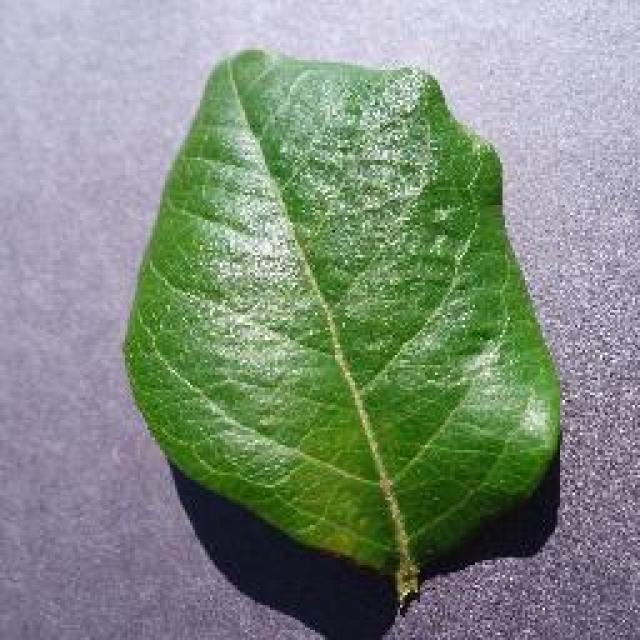Blu_healthy: (151, 105, 521, 513)
